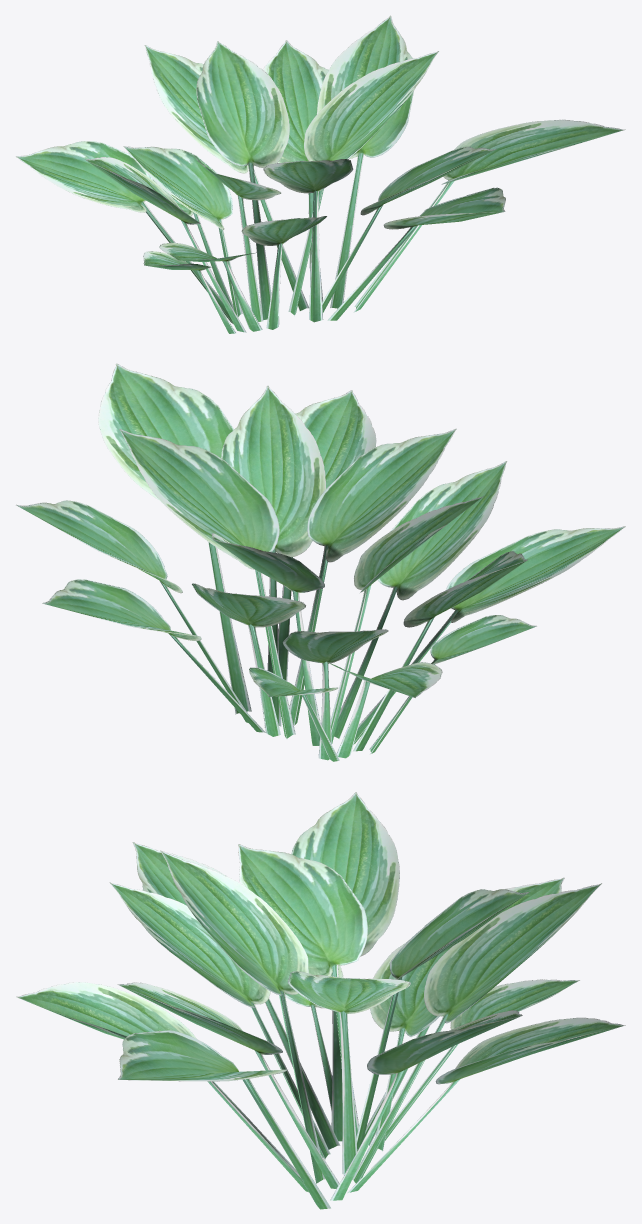
File: plant_small_wg_03E.fbx
3 views of the same model, one above another, from view 1: azimuth 30°, elevation 25°; view 2: azimuth 150°, elevation 25°; view 3: azimuth 270°, elevation 25° (orthographic). The views are drawn at different scales.
Parts seen in each view (by area): view 1: plant_small_wg_03E; view 2: plant_small_wg_03E; view 3: plant_small_wg_03E.
Boxes of the visible parts, x1=… form: plant_small_wg_03E: x1=16, y1=15, x2=625, y2=333; plant_small_wg_03E: x1=16, y1=363, x2=625, y2=761; plant_small_wg_03E: x1=16, y1=792, x2=625, y2=1209.
Bounding box in the file's own units: 84.17 × 40.91 × 79.
